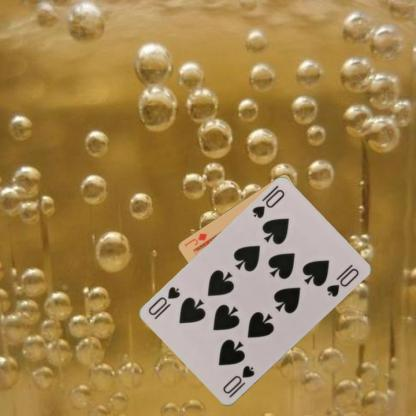10s: (220, 363, 257, 400), (249, 187, 286, 220)
